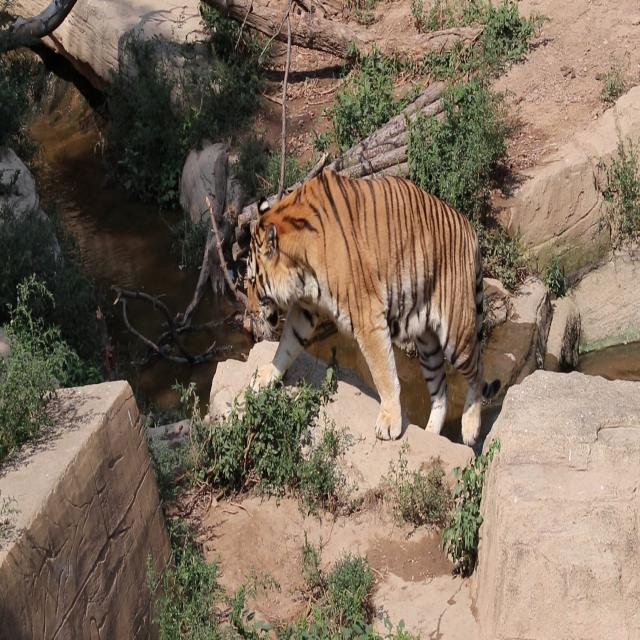Tiger: (223, 135, 509, 465)
